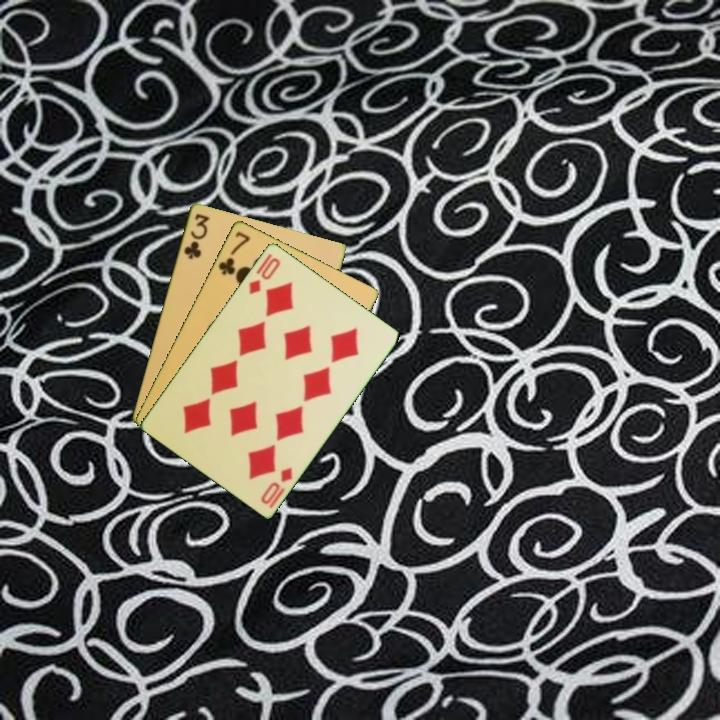10d: (257, 463, 295, 507), (245, 254, 283, 297)
3c: (180, 210, 212, 262)
7c: (214, 227, 253, 278)
